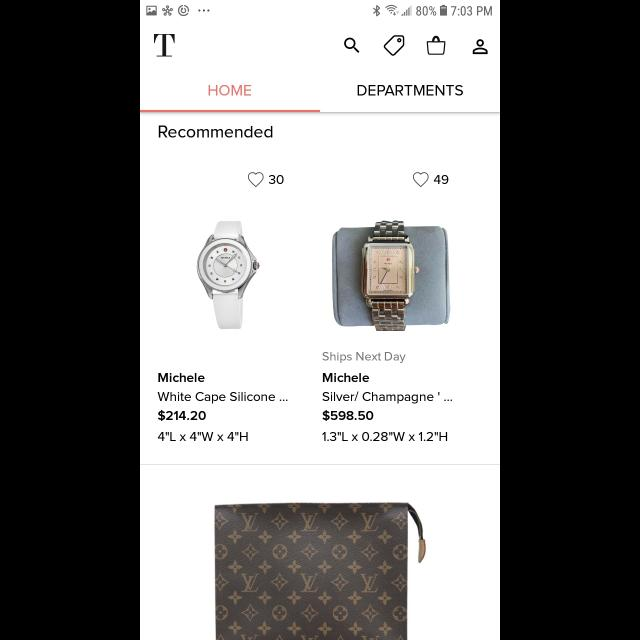icon: (426, 36, 446, 56), (384, 36, 404, 56), (248, 172, 264, 188), (413, 172, 429, 188), (344, 38, 360, 54), (472, 40, 488, 54)
image: (214, 502, 426, 640), (332, 220, 451, 332), (198, 222, 260, 330)
text: (323, 392, 453, 404), (158, 392, 288, 404), (159, 126, 273, 138), (322, 431, 448, 441), (357, 85, 463, 96), (322, 352, 406, 364), (158, 431, 248, 441), (322, 411, 373, 422), (158, 411, 206, 422), (208, 85, 252, 96), (158, 373, 206, 383), (155, 35, 175, 57), (322, 373, 370, 382), (268, 176, 284, 184), (434, 176, 448, 184)
uppertaskbar: (140, 1, 492, 17)
